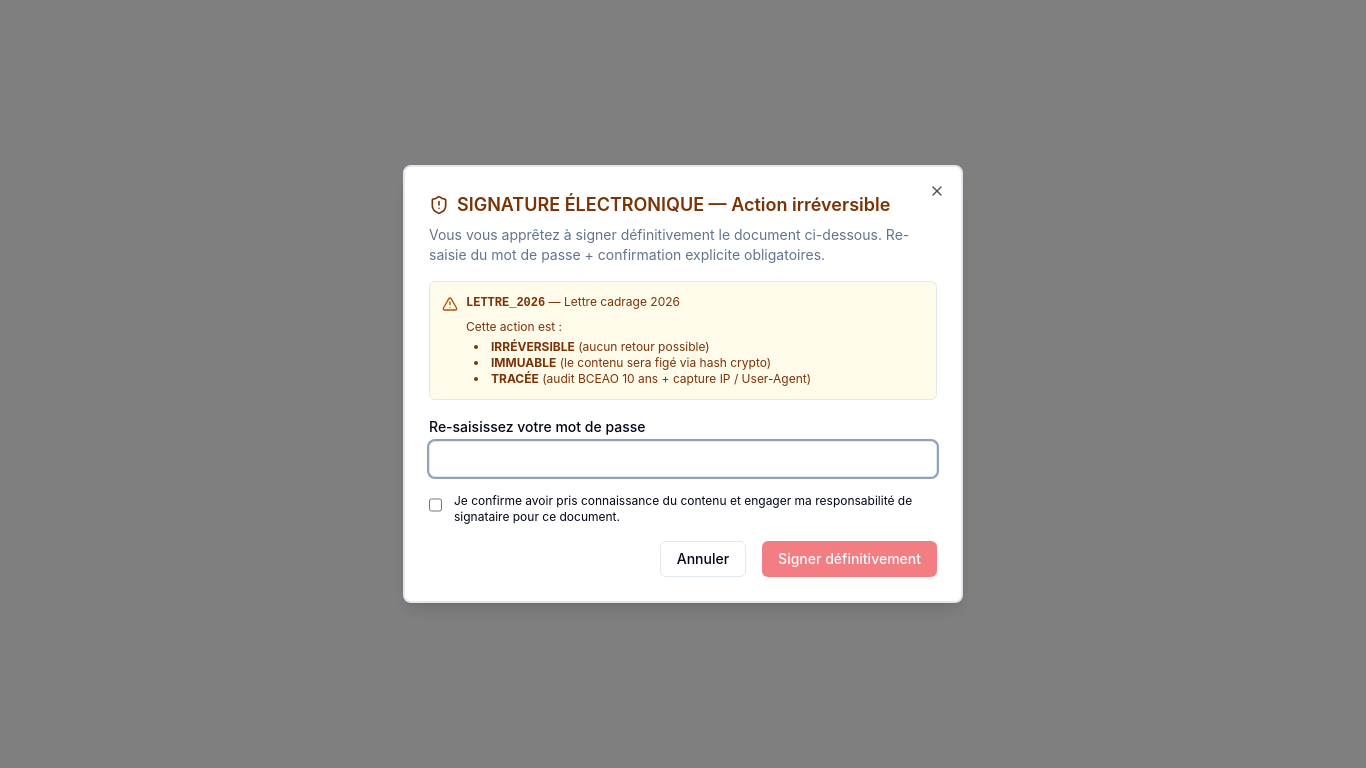
Test case: SignerDocumentModal (Lot 8.2.B P4) › 1. checkbox non cochée → bouton "Signer" disabled même avec mdp rempli
The width and height of the screenshot is (1366, 768).
Expected: the element with test id "encart-irreversible" is shown, [429,281,937,400]
Expected: the button with test id "btn-submit-signer" is disabled, [762,541,937,577]
Avec mdp seul mais sans checkbox → toujours disabled
Type "secret-test" into the password field with test id "input-mdp" at (683, 459), box [429,441,937,477]
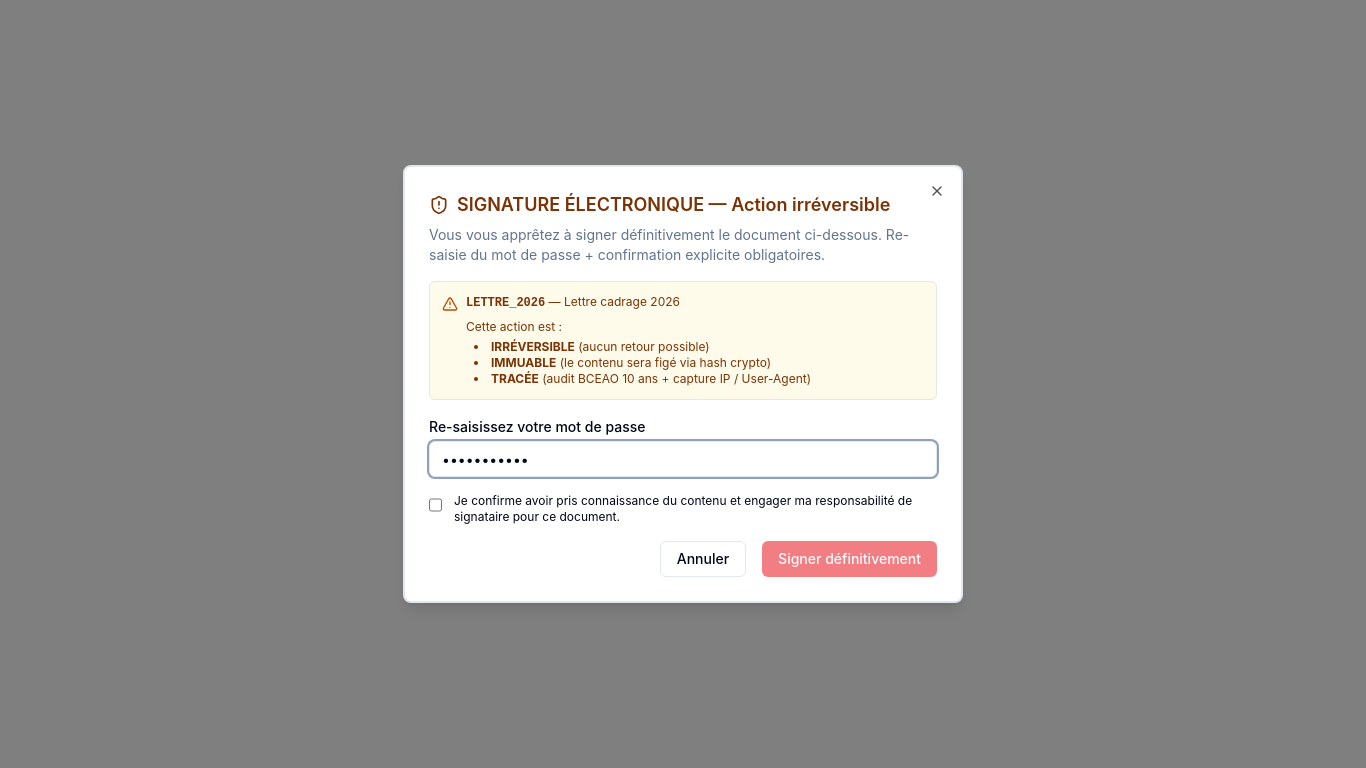
Expected: the button with test id "btn-submit-signer" is disabled, [762,541,937,577]
Checkbox seule sans mdp → toujours disabled
Clear the password field with test id "input-mdp" at (683, 459), box [429,441,937,477]
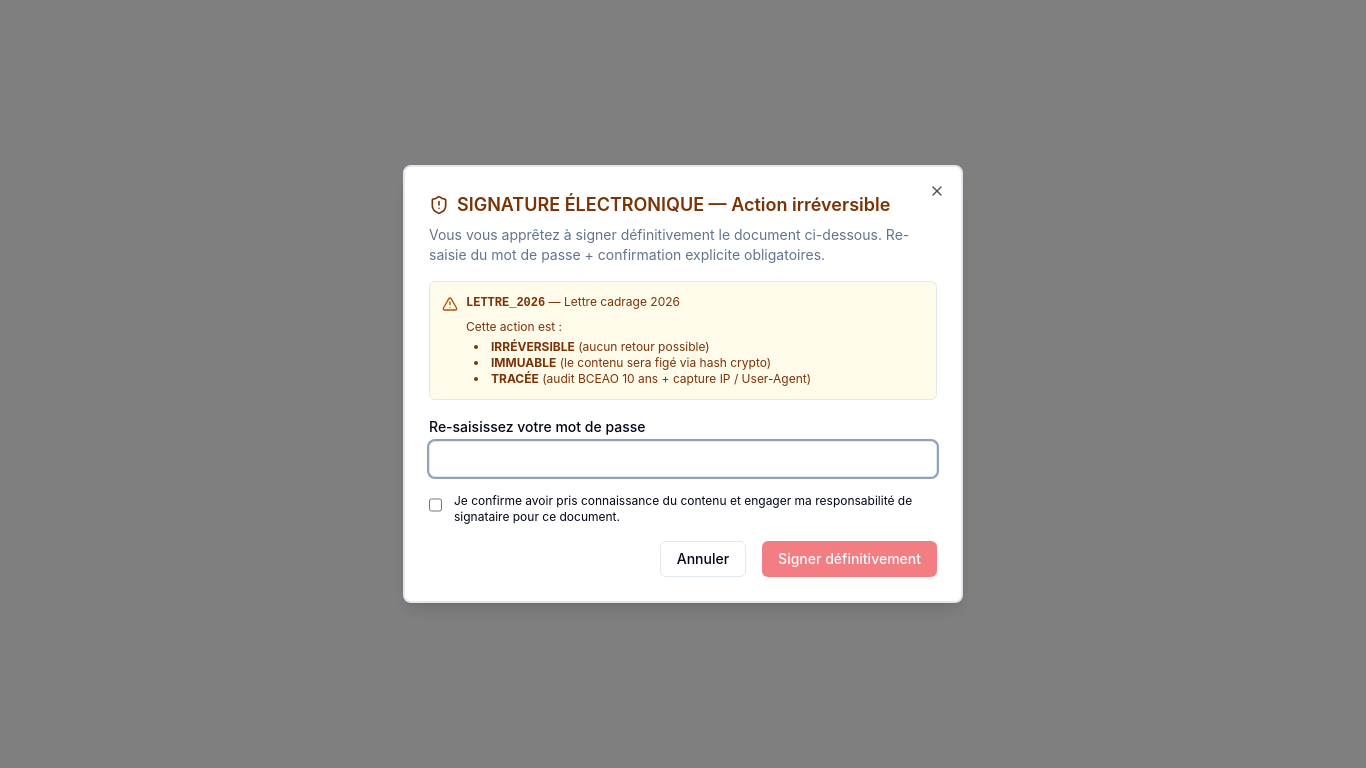
Click the checkbox with test id "checkbox-confirme" at (436, 505), box [429,497,442,513]
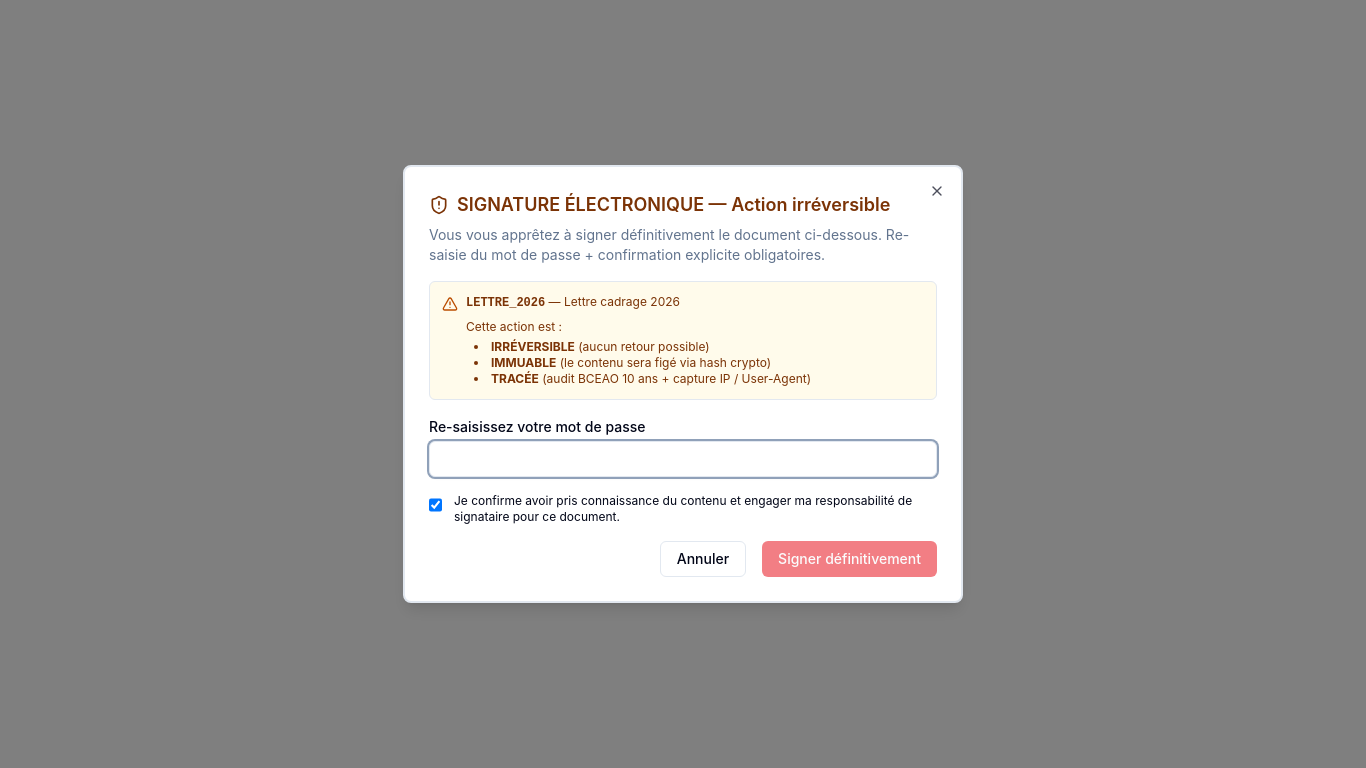
Expected: the button with test id "btn-submit-signer" is disabled, [762,541,937,577]
Les 2 ensemble → bouton actif
Type "secret-test" into the password field with test id "input-mdp" at (683, 459), box [429,441,937,477]
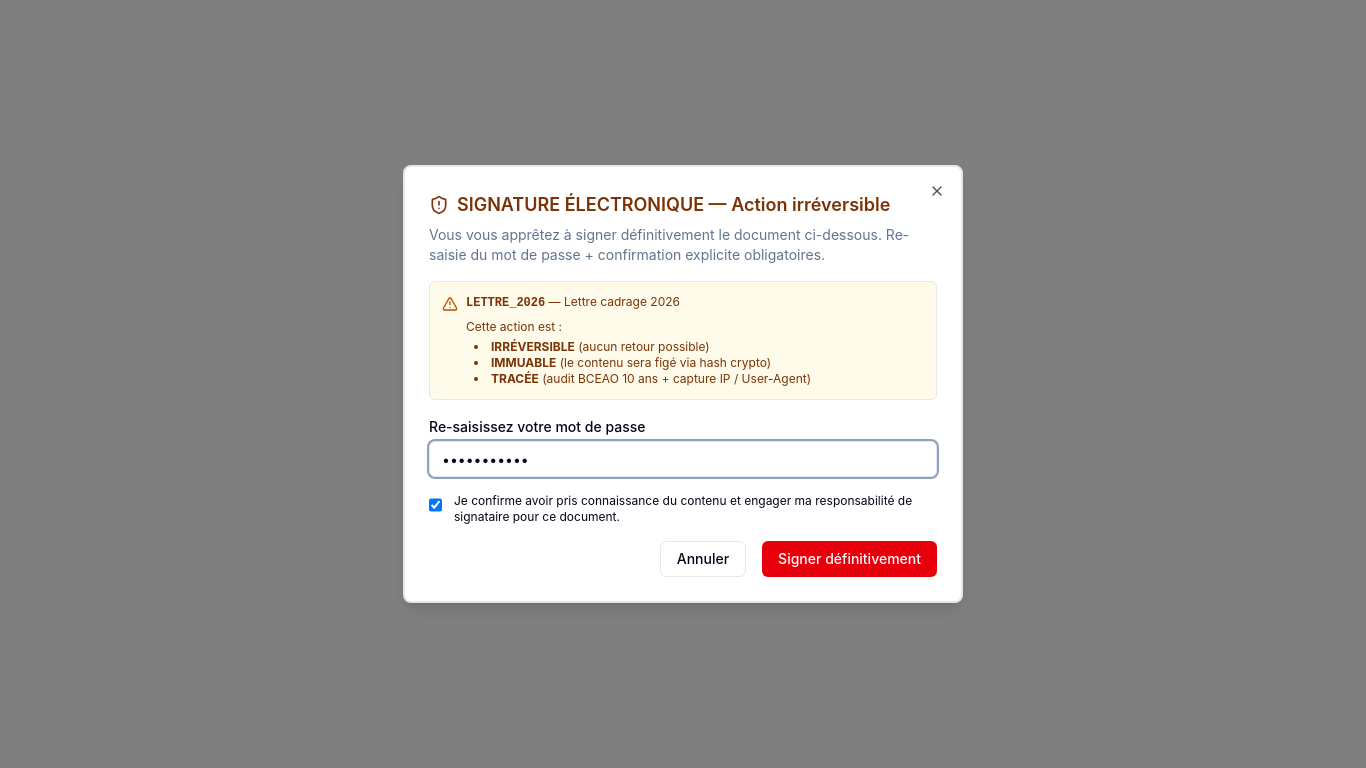
Result: the button with test id "btn-submit-signer" is enabled at [762,541,937,577]
